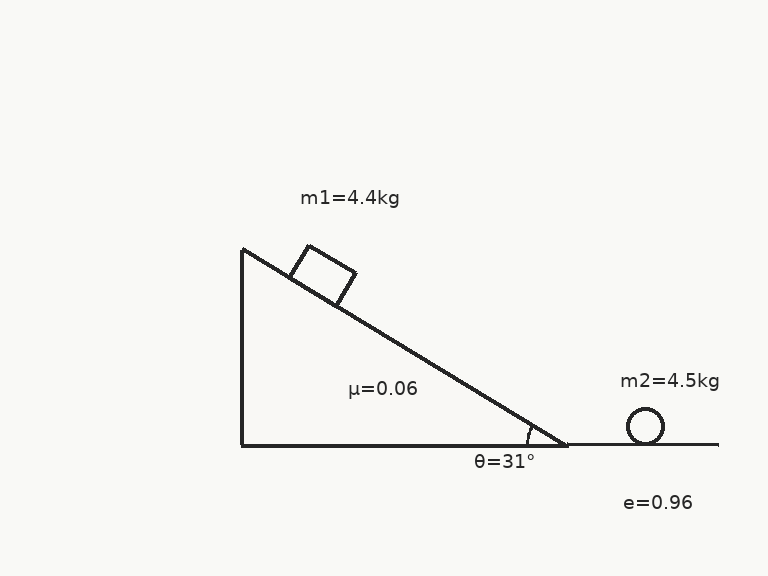ball: (624, 405, 666, 447)
block: (287, 243, 357, 308)
ramp: (239, 247, 569, 447)
